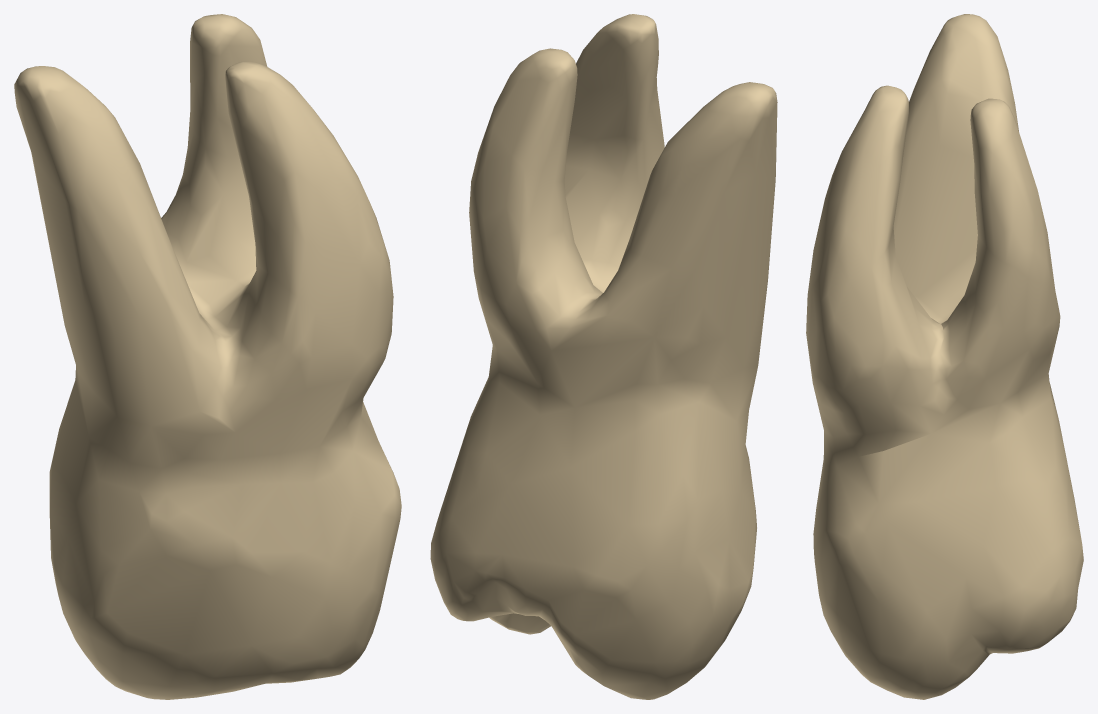
Rendered from tooth-27.glb.
The picture shows the model from 3 angles, left to right: view 1: azimuth 30°, elevation 25°; view 2: azimuth 150°, elevation 25°; view 3: azimuth 270°, elevation 25°; orthographic projection. The views are drawn at different scales.
Parts seen in each view (by area): view 1: tooth-27; view 2: tooth-27; view 3: tooth-27.
Part boxes in pixels (bbox=[...]): tooth-27: bbox=[14, 14, 401, 699]; tooth-27: bbox=[430, 14, 777, 699]; tooth-27: bbox=[806, 14, 1083, 699].
Size of the model in its own units: 0.2963 by 0.5665 by 0.2465.
